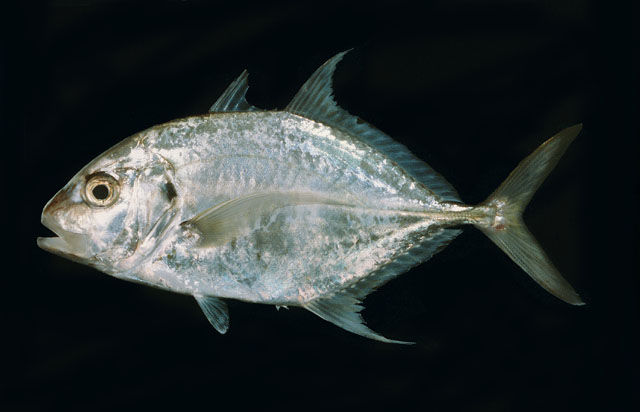fish: (37, 48, 587, 345)
